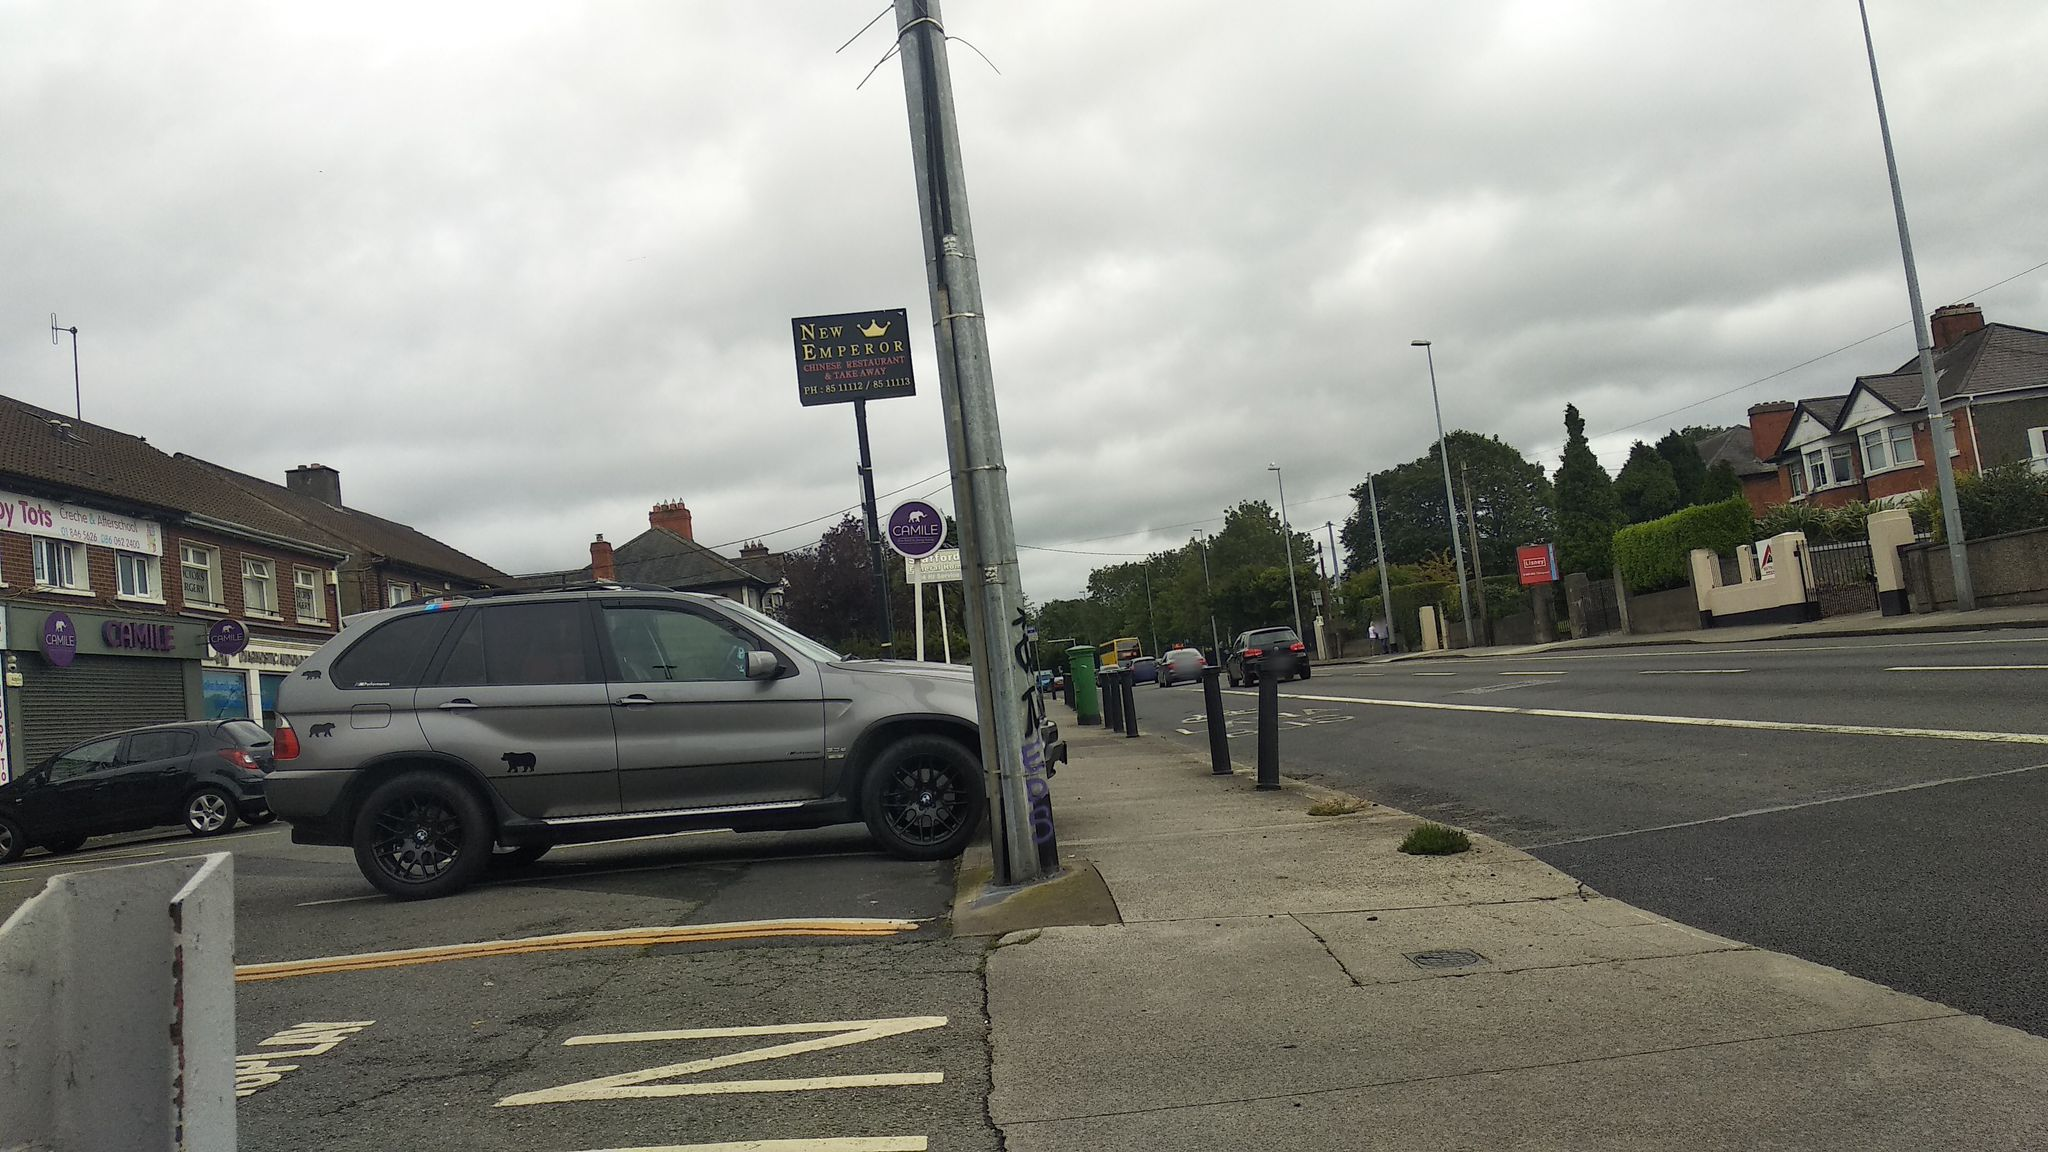property sign: (1506, 527, 1571, 598)
